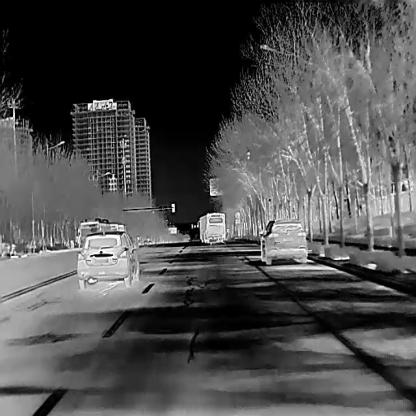bus: (79, 218, 110, 246), (199, 212, 225, 242), (109, 222, 126, 232)
car: (78, 230, 139, 288), (260, 219, 307, 263)
